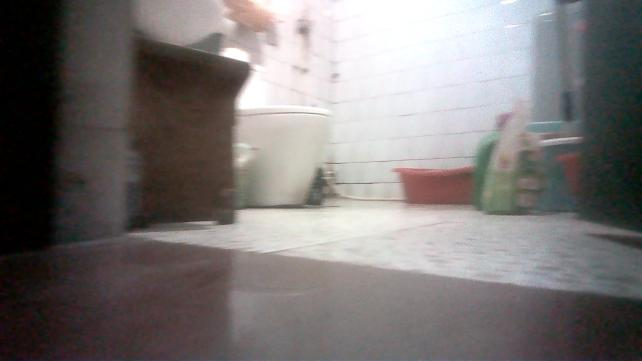toilet: (239, 98, 328, 199)
